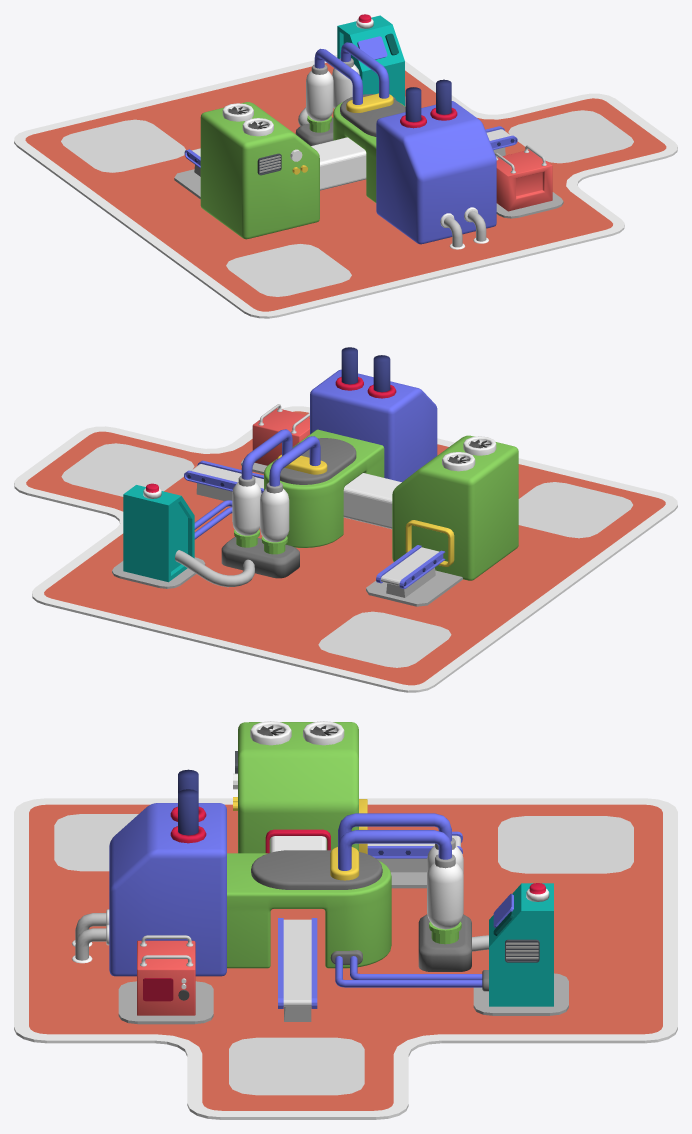
Rendered from Glass_Refining_Machine_L1.fbx.
The picture shows the model from 3 angles, top to bottom: view 1: azimuth 30°, elevation 25°; view 2: azimuth 150°, elevation 25°; view 3: azimuth 270°, elevation 25°; orthographic projection. The views are drawn at different scales.
Parts seen in each view (by area): view 1: Cube.215, Cube.214, Cube.209, Buy Garbage Box.008, Buy Garbage Box.010, Buy Garbage Box.009, Cube.050, Cube.052, Cube.211, Cylinder.069, Sphere.001, Cylinder.070 (+11 smaller); view 2: Cube.215, Cube.209, Cube.214, Cube.052, Cylinder.069, Buy Garbage Box.010, Buy Garbage Box.008, Buy Garbage Box.009, Cube.211, Cube.206, Cylinder.070, Cube.050 (+15 smaller); view 3: Cube.215, Cube.214, Cube.209, Cylinder.069, Buy Garbage Box.009, Buy Garbage Box.010, Cube.052, Cylinder.070, Buy Garbage Box.008, Cube.050, Cube.042, Sphere.002 (+19 smaller).
Boxes of the visible parts, box(x1,y1,x2,y2) form: Cube.215: box(14, 55, 677, 318); Cube.214: box(376, 101, 496, 244); Cube.209: box(200, 102, 319, 239); Buy Garbage Box.008: box(226, 244, 351, 296); Buy Garbage Box.010: box(61, 119, 185, 172); Buy Garbage Box.009: box(508, 110, 633, 163); Cube.050: box(496, 149, 552, 211); Cube.052: box(337, 14, 404, 105); Cube.211: box(311, 137, 366, 190); Cylinder.069: box(333, 102, 405, 202); Sphere.001: box(306, 71, 333, 121); Cylinder.070: box(340, 94, 405, 136); Cube.215: box(14, 406, 677, 692); Cube.209: box(392, 435, 518, 580); Cube.214: box(310, 369, 437, 481); Cube.052: box(123, 483, 194, 582); Cylinder.069: box(264, 429, 384, 547); Buy Garbage Box.010: box(318, 611, 451, 667); Buy Garbage Box.008: box(518, 482, 632, 538); Buy Garbage Box.009: box(61, 443, 194, 496); Cube.211: box(343, 473, 401, 529); Cube.206: box(221, 537, 299, 578); Cylinder.070: box(271, 438, 356, 484); Cube.050: box(252, 408, 309, 465); Cube.215: box(14, 798, 677, 1119); Cube.214: box(109, 803, 226, 976); Cube.209: box(238, 722, 358, 853); Cylinder.069: box(227, 853, 391, 968); Buy Garbage Box.009: box(229, 1037, 364, 1095); Buy Garbage Box.010: box(498, 816, 633, 873); Cube.052: box(489, 883, 553, 1006); Cylinder.070: box(251, 850, 382, 889); Buy Garbage Box.008: box(54, 814, 138, 871); Cube.050: box(137, 940, 195, 1015); Cube.042: box(283, 919, 311, 1006); Sphere.002: box(427, 862, 463, 929).
Size of the model in its own units: 2500 by 622 by 2200.
